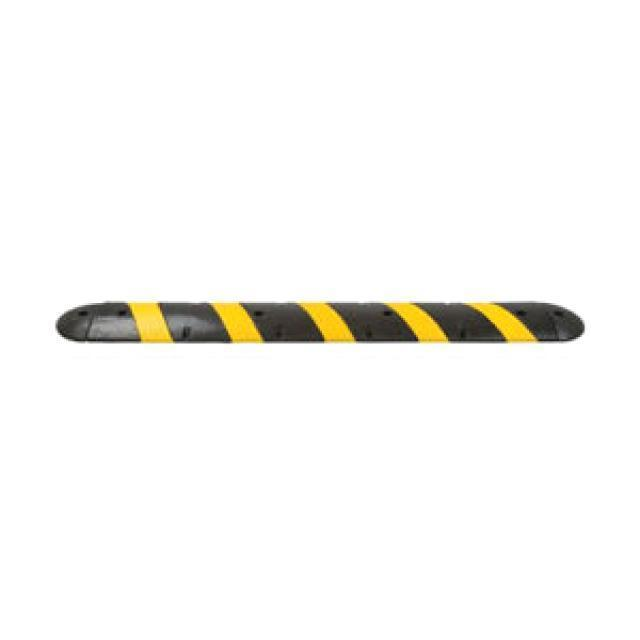Marked Bump: (52, 277, 615, 355)
